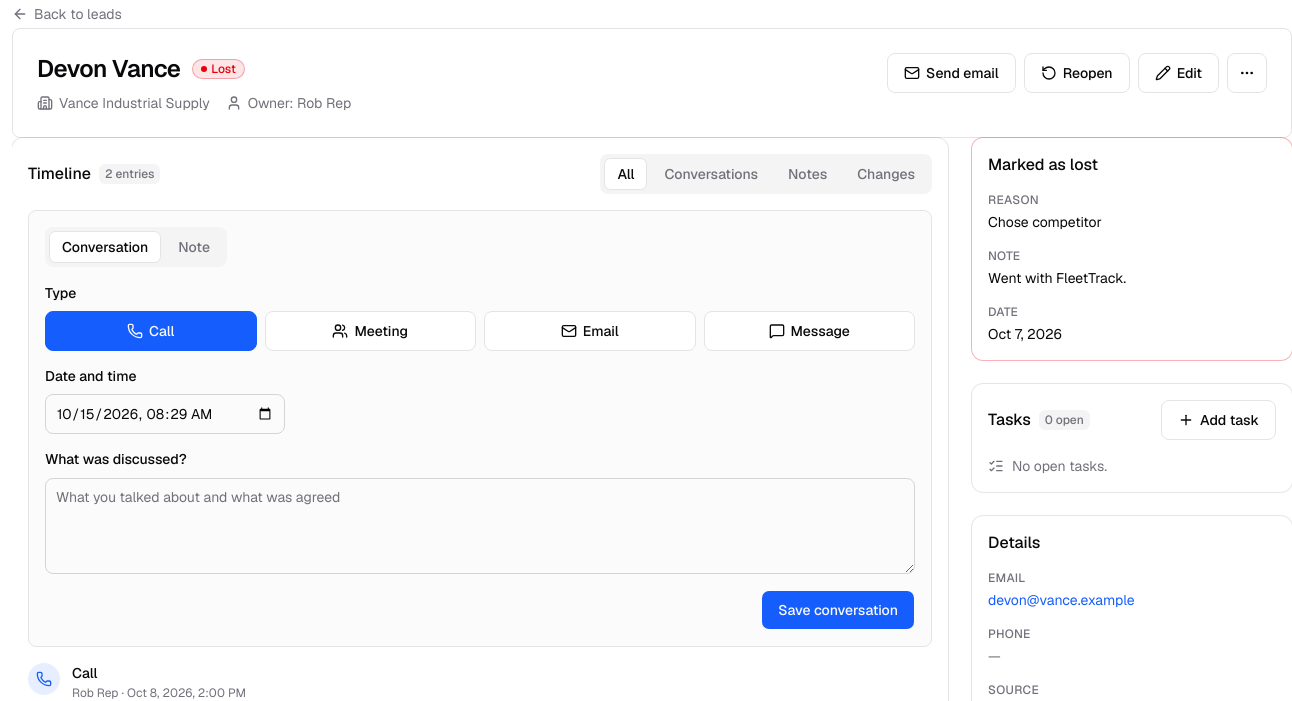
Test: LeadDetailPage › shows why, when and with what note a lead was lost, and offers Reopen
Expected: the heading "Devon Vance" is shown, [37,53,180,85]
Expected: the text "Marked as lost" shows "Chose competitor", [988,213,1102,231]
Step 1. Click the button named "More actions" → (1247, 73), box [1227,53,1267,93]
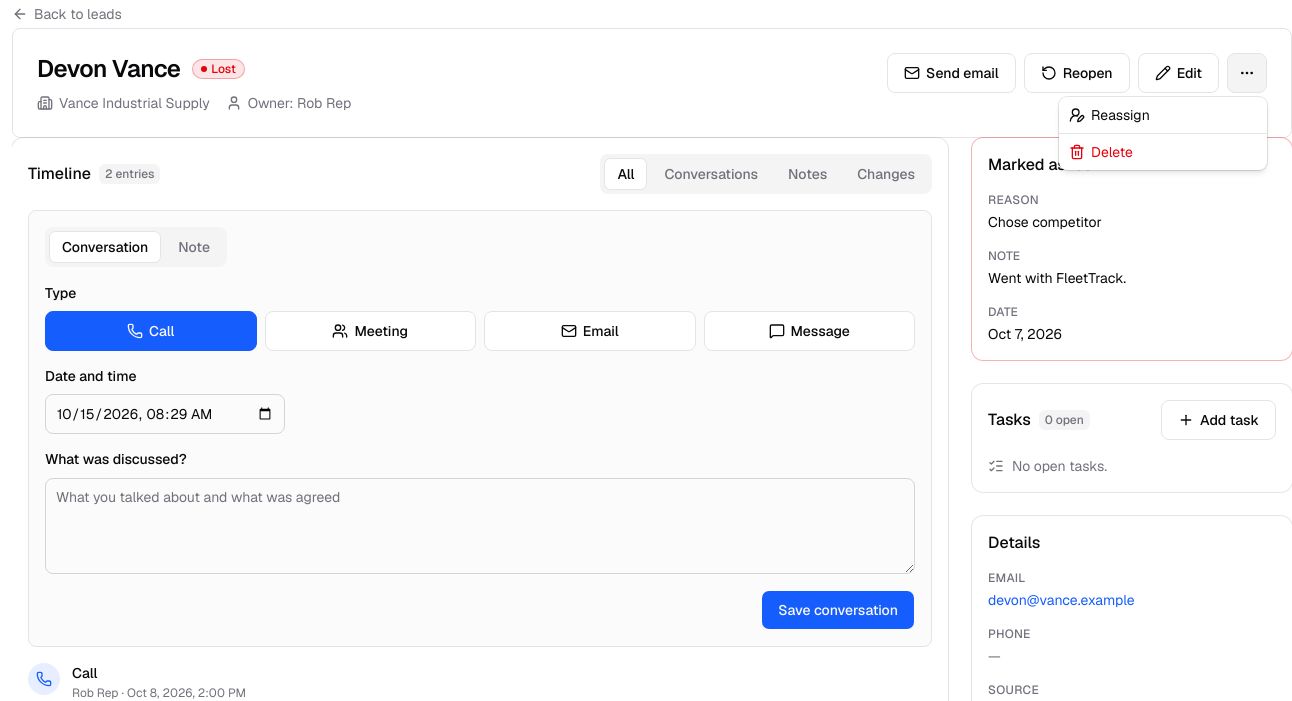
Step 2. Press Escape
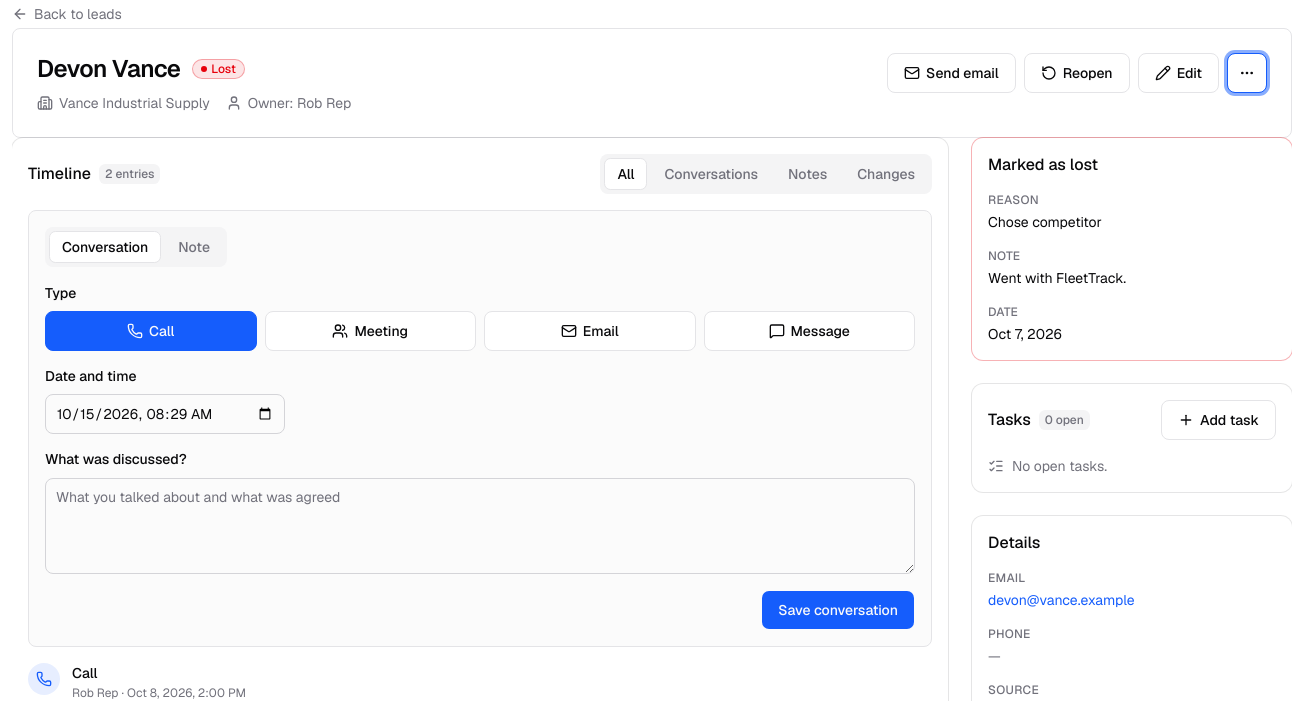
Step 3. Click the button "Reopen" → (1077, 73), box [1024,53,1130,93]
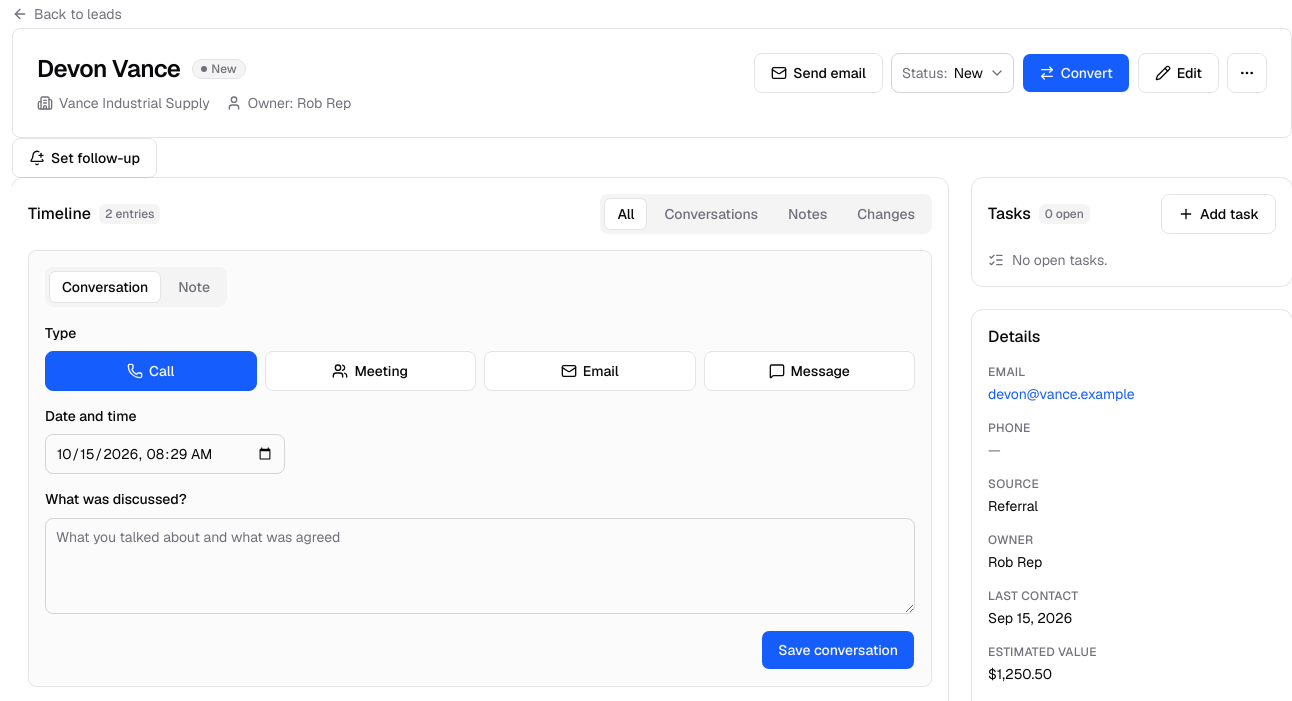
Now the text "Marked as lost" is gone
Now the dropdown labelled "Status" shows "New", box [891,53,1014,93]
